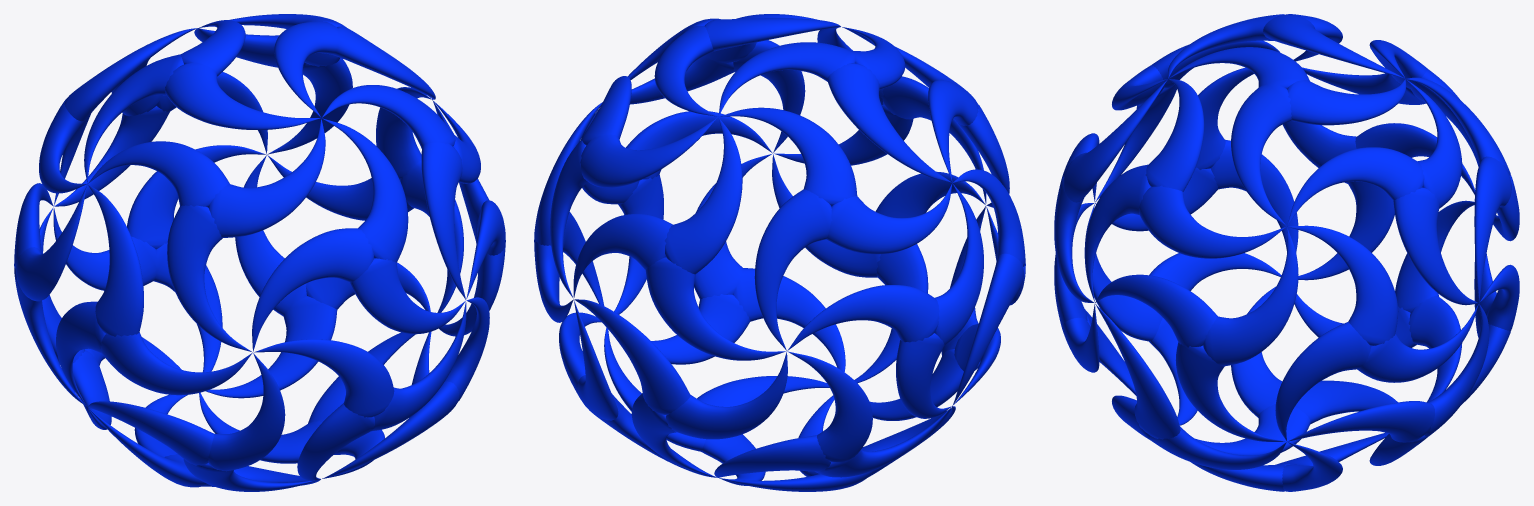
File: triskelon sphere 01.fbx
3 views of the same model, side by side, from view 1: azimuth 30°, elevation 25°; view 2: azimuth 150°, elevation 25°; view 3: azimuth 270°, elevation 25° (orthographic). The views are drawn at different scales.
Visible parts, largest first — view 1: Triskel 006, Triskel 01, Triskel 011, Triskel 005, Triskel 007, Triskel 012, Triskel 004, Triskel 003, Triskel 008, Triskel 002, Triskel 010, Triskel 009; view 2: Triskel 008, Triskel 002, Triskel 011, Triskel 007, Triskel 003, Triskel 005, Triskel 012, Triskel 010, Triskel 004, Triskel 006, Triskel 009, Triskel 01; view 3: Triskel 009, Triskel 010, Triskel 007, Triskel 005, Triskel 01, Triskel 002, Triskel 012, Triskel 004, Triskel 011, Triskel 006, Triskel 008, Triskel 003.
Part boxes in pixels (box(x1,y1,x2,y2)): Triskel 006: box(100, 205, 394, 471); Triskel 01: box(165, 21, 455, 262); Triskel 011: box(16, 54, 229, 336); Triskel 005: box(349, 142, 505, 431); Triskel 007: box(127, 58, 413, 316); Triskel 012: box(14, 267, 214, 487); Triskel 004: box(84, 242, 337, 463); Triskel 003: box(183, 381, 459, 491); Triskel 008: box(14, 95, 169, 364); Triskel 002: box(64, 14, 346, 121); Triskel 010: box(305, 160, 505, 423); Triskel 009: box(304, 26, 488, 243); Triskel 008: box(645, 189, 939, 462); Triskel 002: box(580, 26, 857, 274); Triskel 011: box(826, 63, 1025, 345); Triskel 007: box(534, 139, 690, 420); Triskel 003: box(697, 244, 963, 476); Triskel 005: box(626, 40, 913, 299); Triskel 012: box(815, 253, 1023, 477); Triskel 010: box(559, 174, 750, 451); Triskel 004: box(593, 393, 873, 491); Triskel 006: box(875, 76, 1025, 355); Triskel 009: box(534, 18, 734, 245); Triskel 01: box(704, 14, 977, 104); Triskel 009: box(1139, 84, 1424, 366); Triskel 010: box(1149, 322, 1434, 491); Triskel 007: box(1357, 156, 1519, 437); Triskel 005: box(1054, 164, 1217, 439); Triskel 01: box(1063, 14, 1309, 202); Triskel 002: box(1263, 14, 1510, 208); Triskel 012: box(1149, 139, 1416, 417); Triskel 004: box(1276, 295, 1510, 465); Triskel 011: box(1152, 14, 1426, 183); Triskel 006: box(1054, 85, 1218, 341); Triskel 008: box(1355, 69, 1519, 337); Triskel 003: box(1085, 309, 1310, 491).
Bounding box in the file's own units: 330 × 330 × 330.
